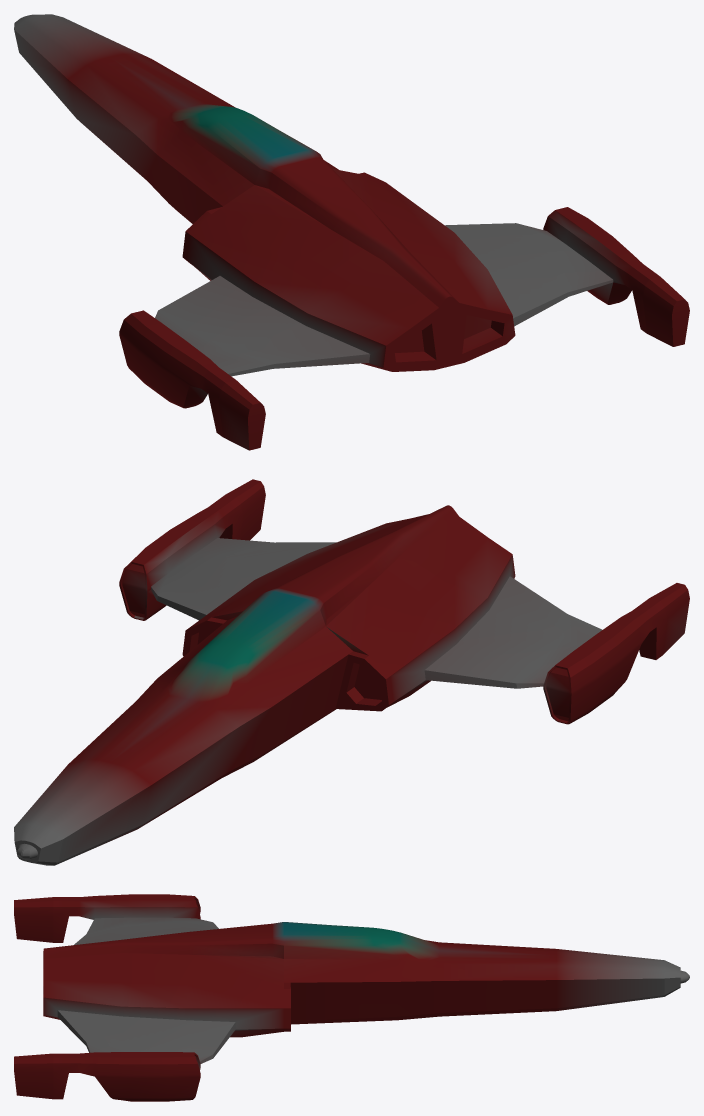
The model's file is ship.gltf.
3 renders of one model, top to bottom at view 1: azimuth 30°, elevation 25°; view 2: azimuth 150°, elevation 25°; view 3: azimuth 270°, elevation 25°, orthographic. The views are drawn at different scales.
Visible parts, largest first — view 1: Cube.004; view 2: Cube.004; view 3: Cube.004.
Part boxes in pixels (<box>): Cube.004: <box>14,14,689,450</box>; Cube.004: <box>14,479,689,865</box>; Cube.004: <box>14,894,689,1101</box>.
Bounding box in the file's own units: 9.96 × 2.52 × 16.83.
